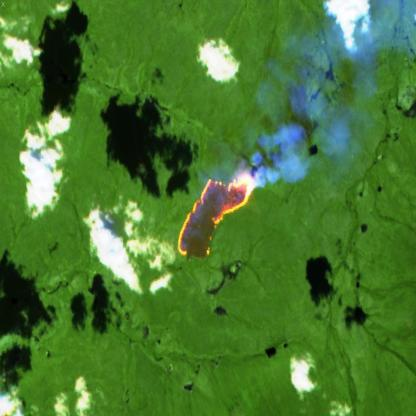fire: (176, 167, 258, 258)
